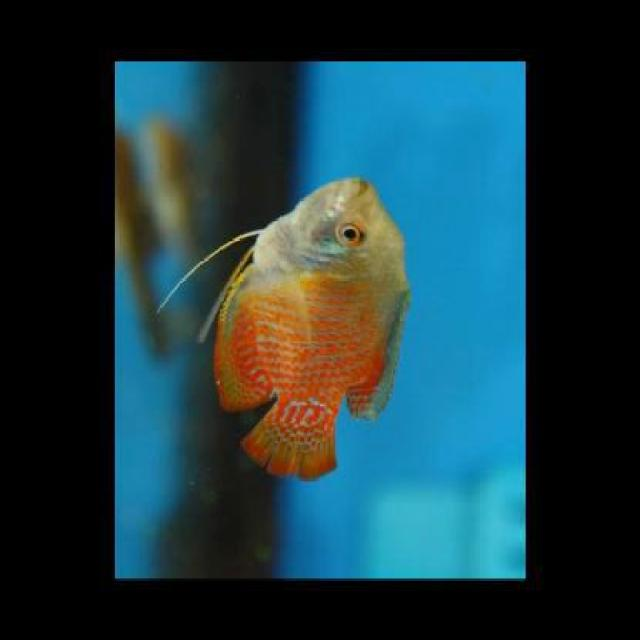Gourami: (204, 175, 418, 487)
